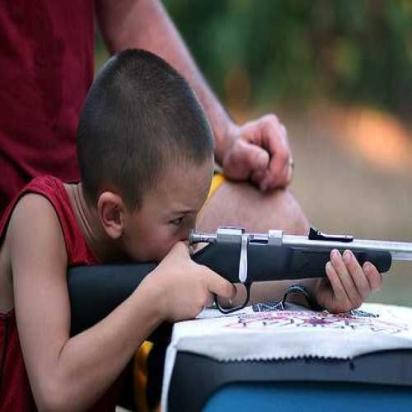Gun: (55, 203, 410, 374)
